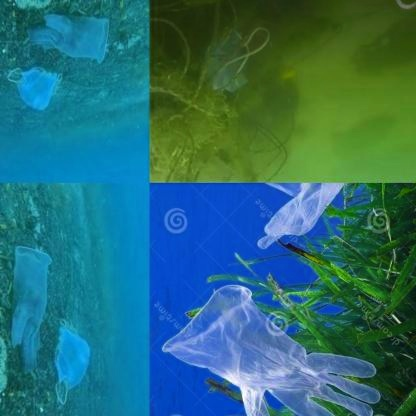Mask: (191, 13, 277, 106), (53, 318, 94, 407), (6, 67, 63, 110)
glove: (162, 283, 382, 416), (251, 183, 379, 262), (11, 241, 53, 374), (26, 14, 113, 64)
